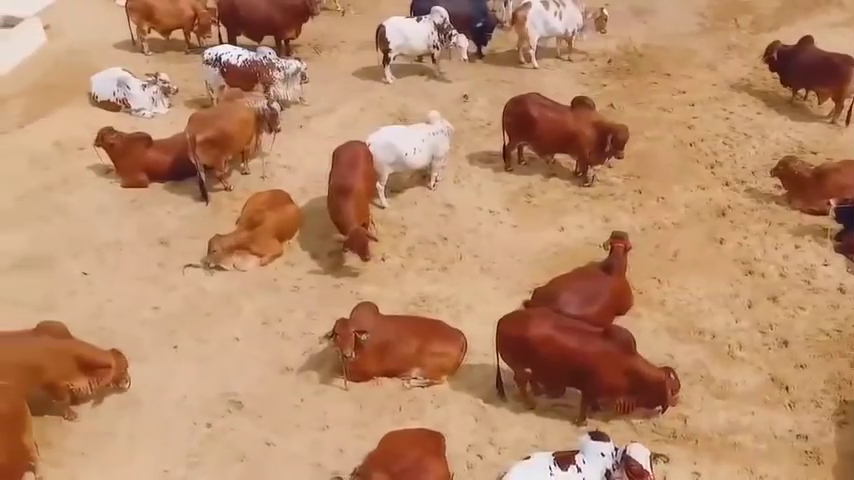bo: (488, 305, 683, 427), (6, 313, 134, 428), (327, 291, 470, 393), (514, 219, 648, 325), (493, 75, 630, 176), (483, 420, 670, 479), (191, 37, 321, 117), (318, 134, 387, 275), (363, 101, 452, 210), (201, 183, 302, 279), (752, 32, 852, 127), (185, 94, 284, 187), (67, 117, 184, 193), (372, 3, 475, 88), (336, 416, 465, 476), (507, 1, 613, 69), (213, 3, 328, 60), (766, 146, 854, 218), (408, 1, 501, 67), (86, 57, 175, 124), (116, 1, 212, 61), (818, 196, 854, 267)
